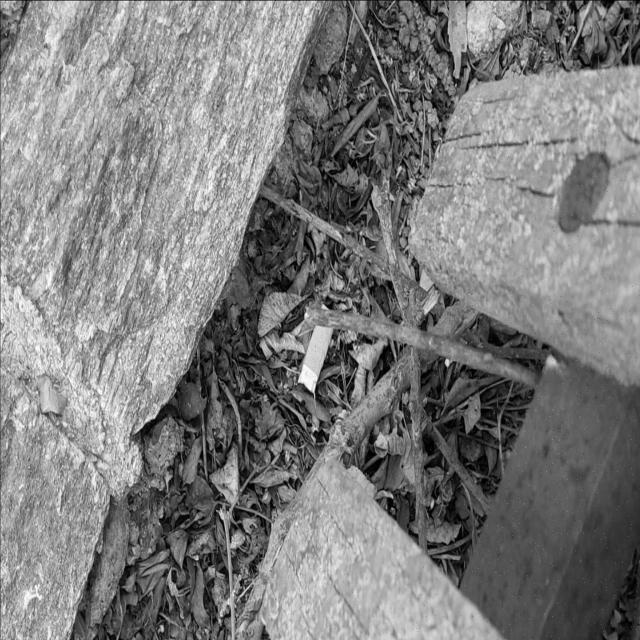other waste: (297, 302, 334, 394)
